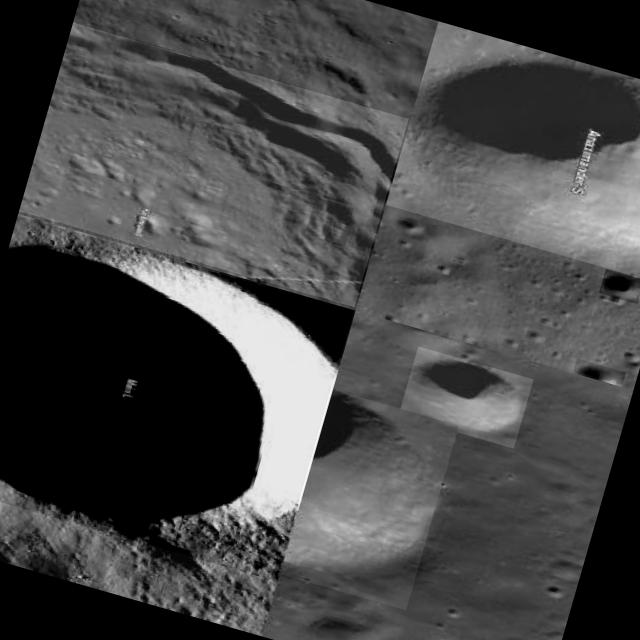crater: (0, 215, 352, 580), (18, 22, 408, 307), (385, 21, 640, 284), (279, 389, 458, 610), (398, 346, 534, 448), (598, 268, 640, 303), (572, 358, 626, 384)
